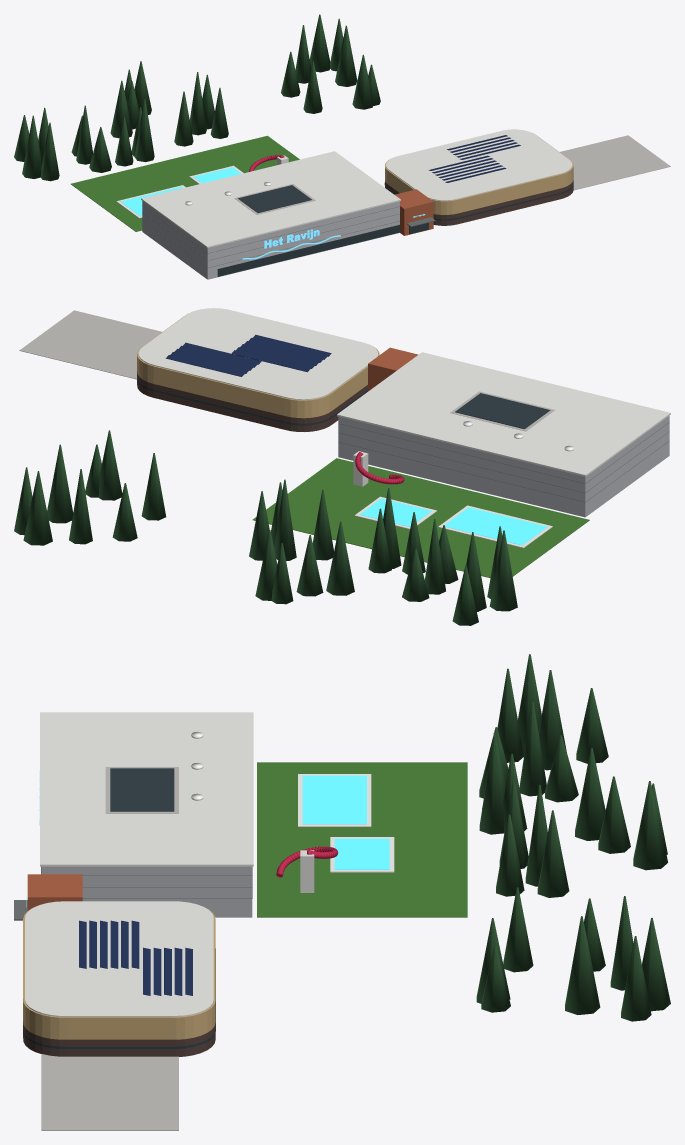
Rendered from lm_ravijn.glb.
3 views of the same model, one above another, from view 1: azimuth 30°, elevation 25°; view 2: azimuth 150°, elevation 25°; view 3: azimuth 270°, elevation 25° (orthographic). The views are drawn at different scales.
Parts seen in each view (by area): view 1: roof, sports_roof, hall, lawn, car_park, sports_upper, hall_glass, sports_lower, lightwell_glass, entrance, pine9, pine20 (+17 smaller); view 2: roof, hall, lawn, sports_roof, car_park, sports_upper, sports_lower, pool0, lightwell_glass, pine20, pine9, pine19 (+26 smaller); view 3: roof, lawn, sports_roof, car_park, hall, sports_upper, pool0, sports_lower, lightwell_glass, pine9, pine21, pool1 (+23 smaller).
Part boxes in pixels (x1,y1,x2,y2): roof: [141, 151, 400, 247]; sports_roof: [386, 129, 572, 200]; hall: [142, 201, 399, 279]; lawn: [71, 135, 299, 231]; car_park: [560, 135, 670, 190]; sports_upper: [385, 134, 573, 214]; hall_glass: [217, 224, 399, 276]; sports_lower: [385, 180, 573, 225]; lightwell_glass: [238, 185, 311, 212]; entrance: [395, 189, 433, 235]; pine9: [335, 25, 357, 86]; pine20: [22, 115, 42, 178]; roof: [337, 352, 670, 476]; hall: [338, 416, 669, 517]; lawn: [252, 458, 589, 577]; sports_roof: [138, 308, 378, 399]; car_park: [19, 310, 161, 379]; sports_upper: [137, 313, 379, 418]; sports_lower: [137, 371, 367, 431]; pool0: [444, 507, 547, 545]; lightwell_glass: [455, 393, 550, 428]; pine20: [489, 530, 517, 611]; pine9: [47, 444, 73, 523]; pine19: [23, 471, 52, 545]; roof: [40, 712, 253, 866]; lawn: [257, 762, 467, 917]; sports_roof: [25, 901, 213, 1016]; car_park: [41, 1054, 178, 1130]; hall: [41, 866, 252, 917]; sports_upper: [23, 906, 215, 1039]; pool0: [302, 775, 366, 824]; sports_lower: [23, 1021, 215, 1056]; lightwell_glass: [110, 768, 174, 811]; pine9: [565, 916, 600, 1014]; pine21: [633, 781, 667, 870]; pool1: [334, 838, 389, 869].
Size of the model in its own units: 201 by 22.98 by 143.
